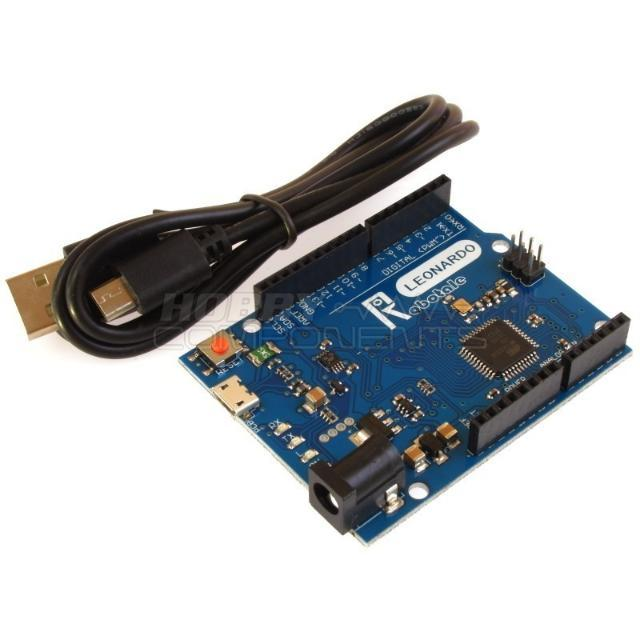Arduino-leonardo: (181, 177, 631, 543)
